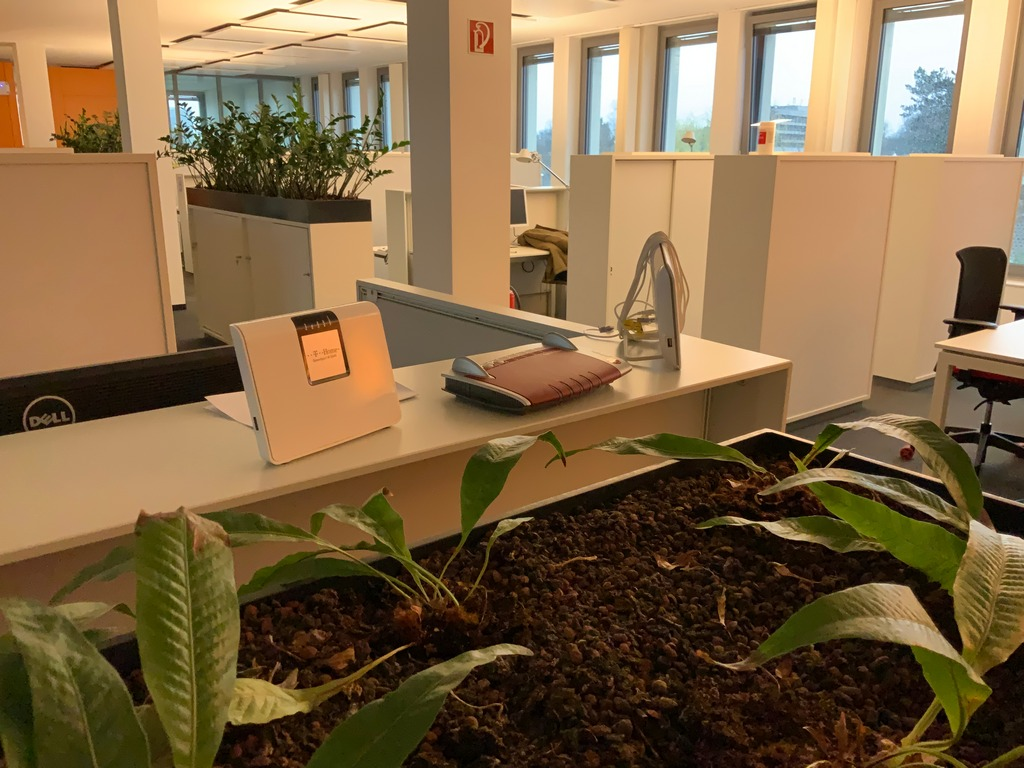Router2: (225, 305, 406, 471)
router: (619, 237, 690, 384)
router3: (444, 331, 628, 423)
